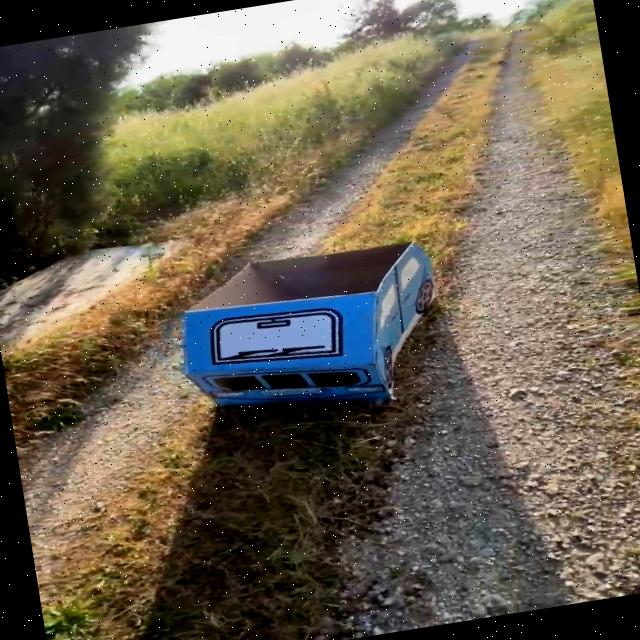blue_car: (129, 194, 509, 482)
